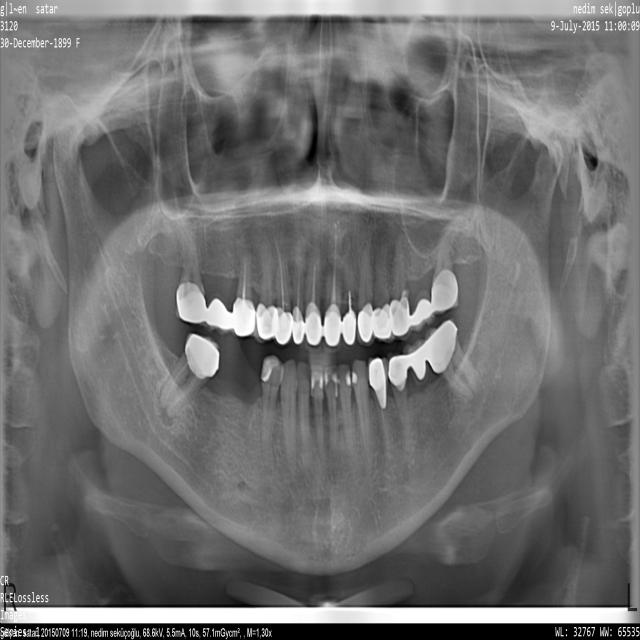Canine: (352, 359, 372, 473), (280, 359, 298, 473), (274, 240, 293, 347), (357, 237, 375, 346)
Incisores: (324, 220, 341, 354), (304, 234, 322, 354), (342, 235, 357, 350), (291, 239, 304, 349), (297, 361, 310, 469), (338, 365, 353, 451), (324, 366, 338, 457), (311, 364, 324, 460)
Premolars: (368, 357, 392, 462), (390, 226, 412, 340), (232, 233, 256, 337), (261, 355, 284, 461), (388, 353, 412, 453), (255, 240, 278, 343), (374, 233, 394, 343)
molars: (160, 333, 219, 419), (425, 318, 479, 403), (175, 233, 206, 326), (431, 225, 459, 315), (205, 294, 230, 331), (408, 339, 428, 384), (412, 289, 433, 329)
